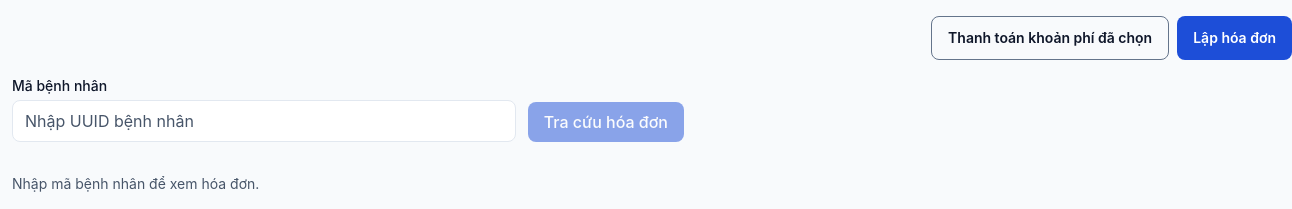
Scenario: InvoiceLookup › rejects invalid patient ids without issuing a read
The width and height of the screenshot is (1292, 209).
In the field labelled "Mã bệnh nhân": (264, 121) [12,100,516,142], type "invalid"
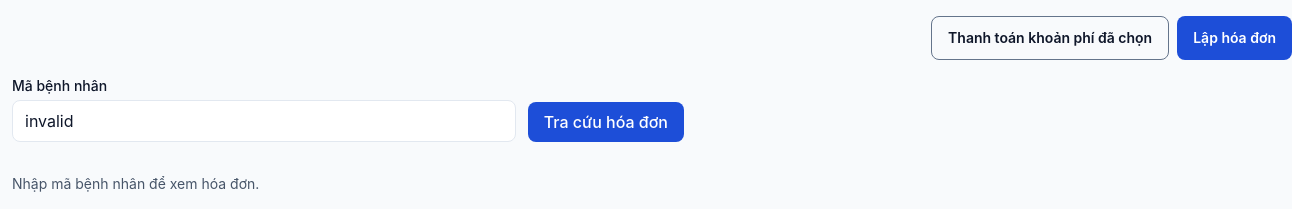
Click the button "Tra cứu hóa đơn": (606, 122) [528,102,684,142]
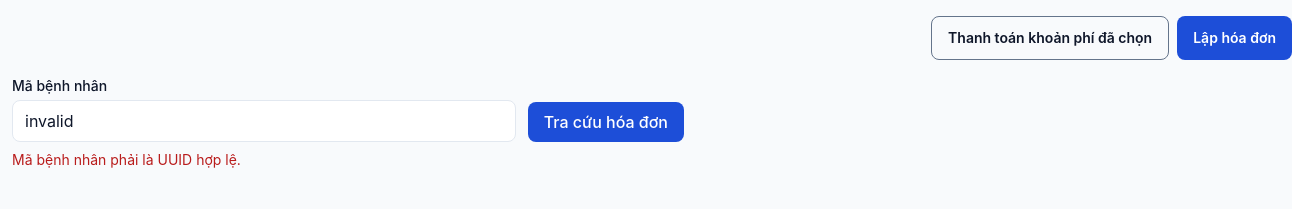
Expected: the message shows "UUID", [12,151,241,168]
